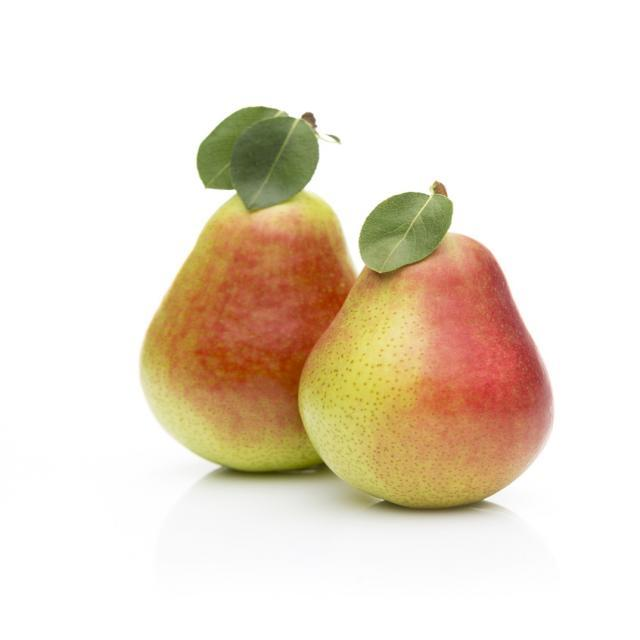Pear: (293, 176, 555, 513), (137, 104, 357, 472)
